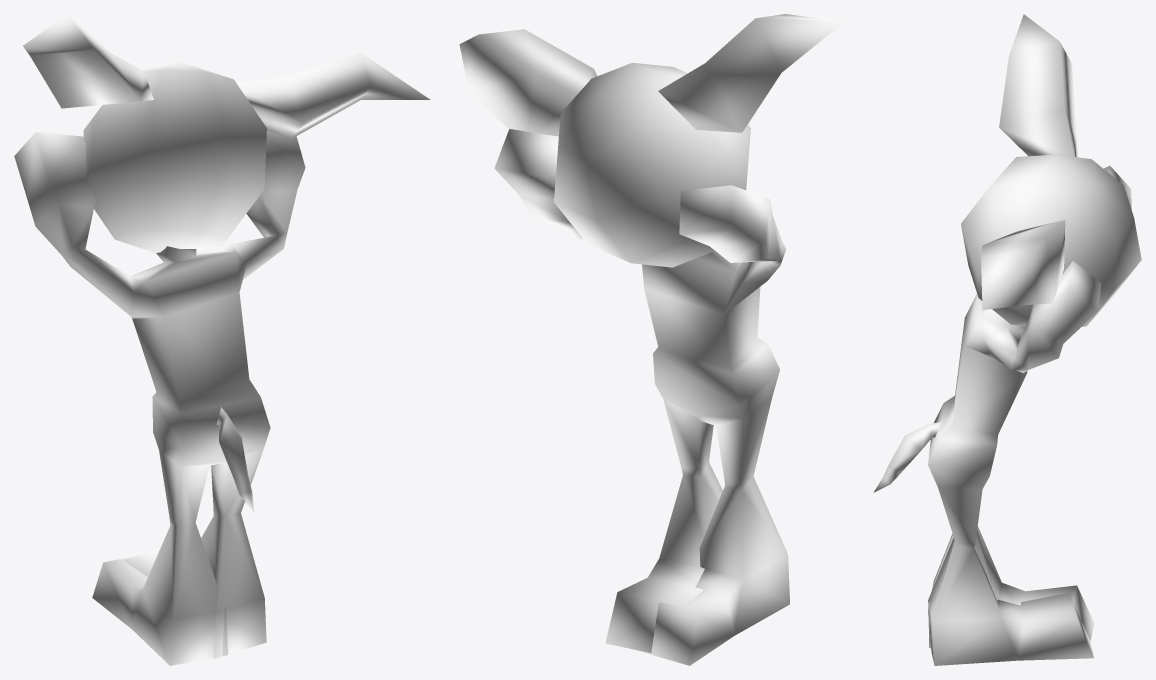
File: dog3.ico.obj
3 views of the same model, side by side, from view 1: azimuth 30°, elevation 25°; view 2: azimuth 150°, elevation 25°; view 3: azimuth 270°, elevation 25° (orthographic). The views are drawn at different scales.
Size of the model in its own units: 3.13 by 4.74 by 2.04.
Materials: 1 (1 with a texture image).
